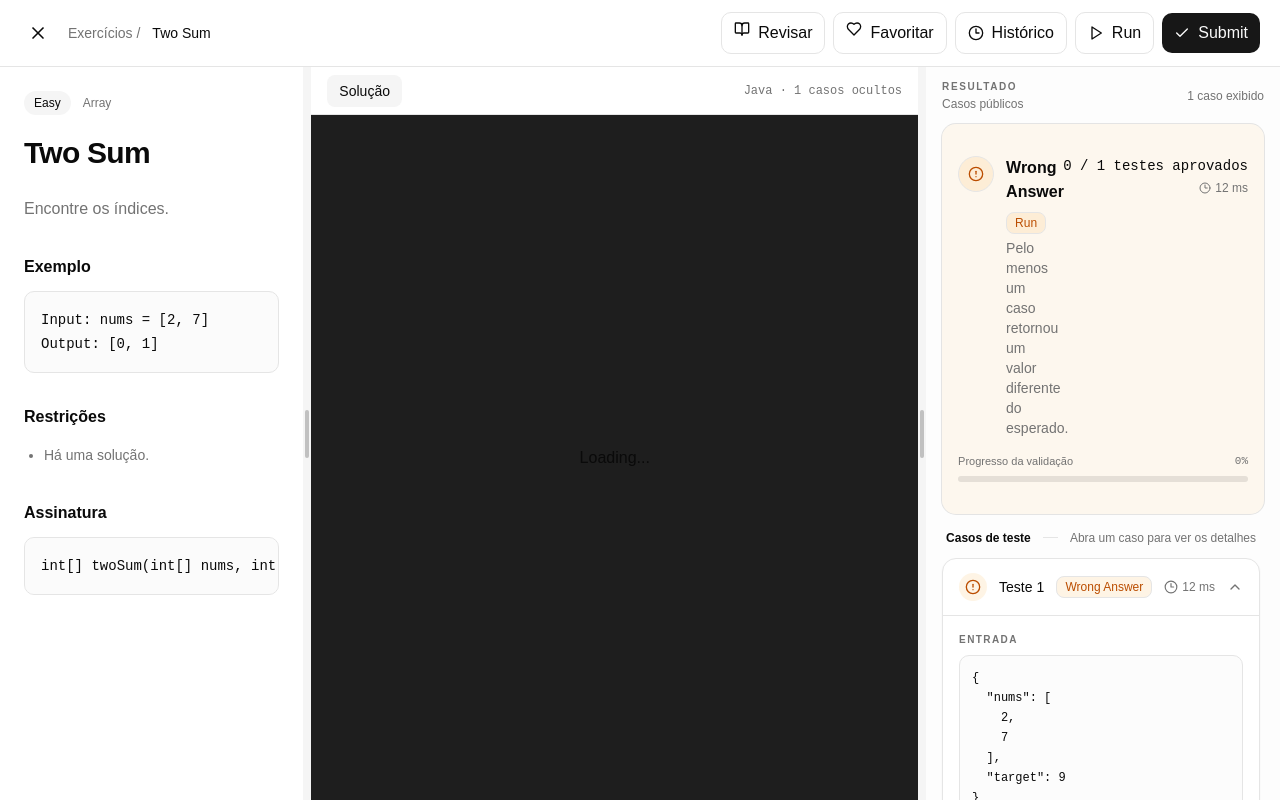
Test: Judge integration in the solver › runs public tests, submits all tests and refreshes the Dashboard while keeping the modal open
Earlier steps of the test are not shown.
Expected: the element named "Resultado da execução" does not have class "hidden", [926, 67, 1279, 799]
Click the button "Submit" at {"x": 1211, "y": 33}, box [1162, 13, 1260, 53]
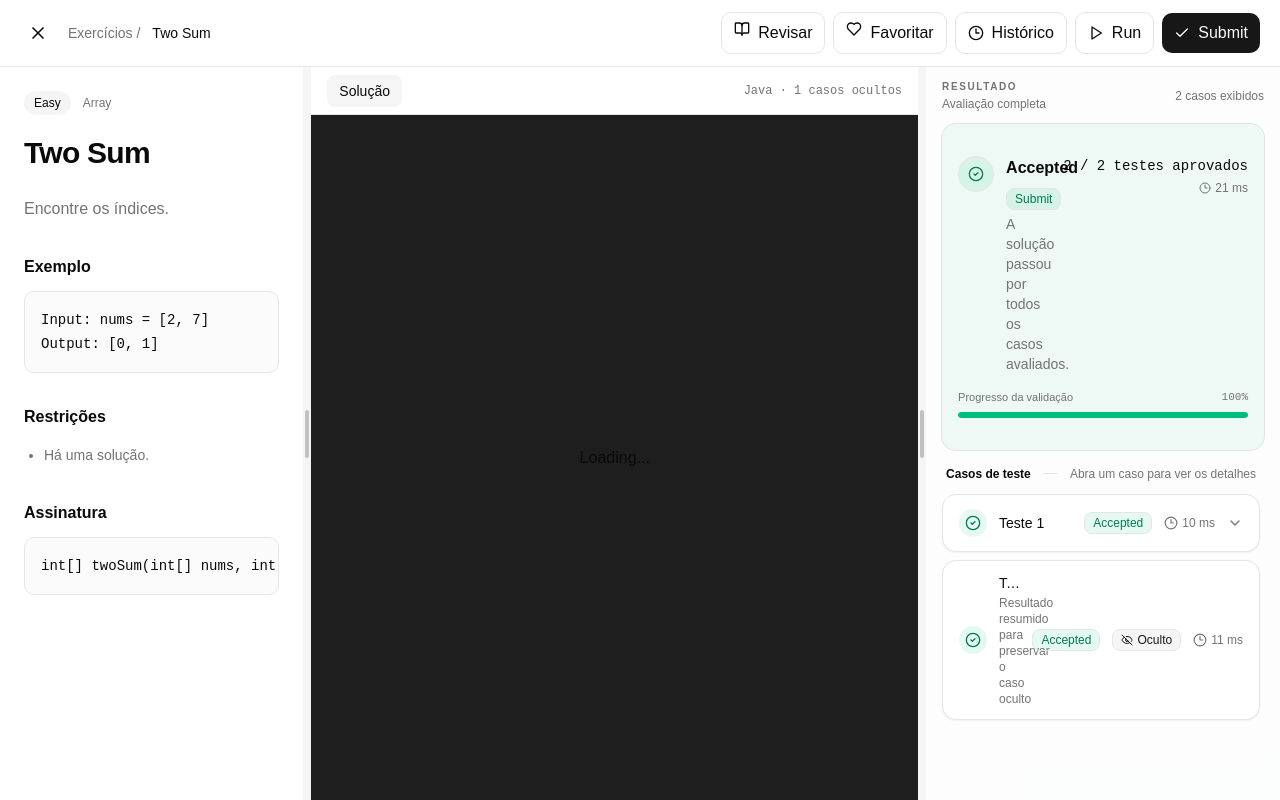
Result: the number of headings "Accepted" is 3 at [1006, 156, 1078, 180]; [1084, 512, 1152, 534]; [1032, 629, 1100, 651]
Result: the text "Teste oculto 2" is shown at [999, 573, 1020, 593]
Click the button named "Fechar exercício" at {"x": 38, "y": 33}, box [20, 15, 56, 51]
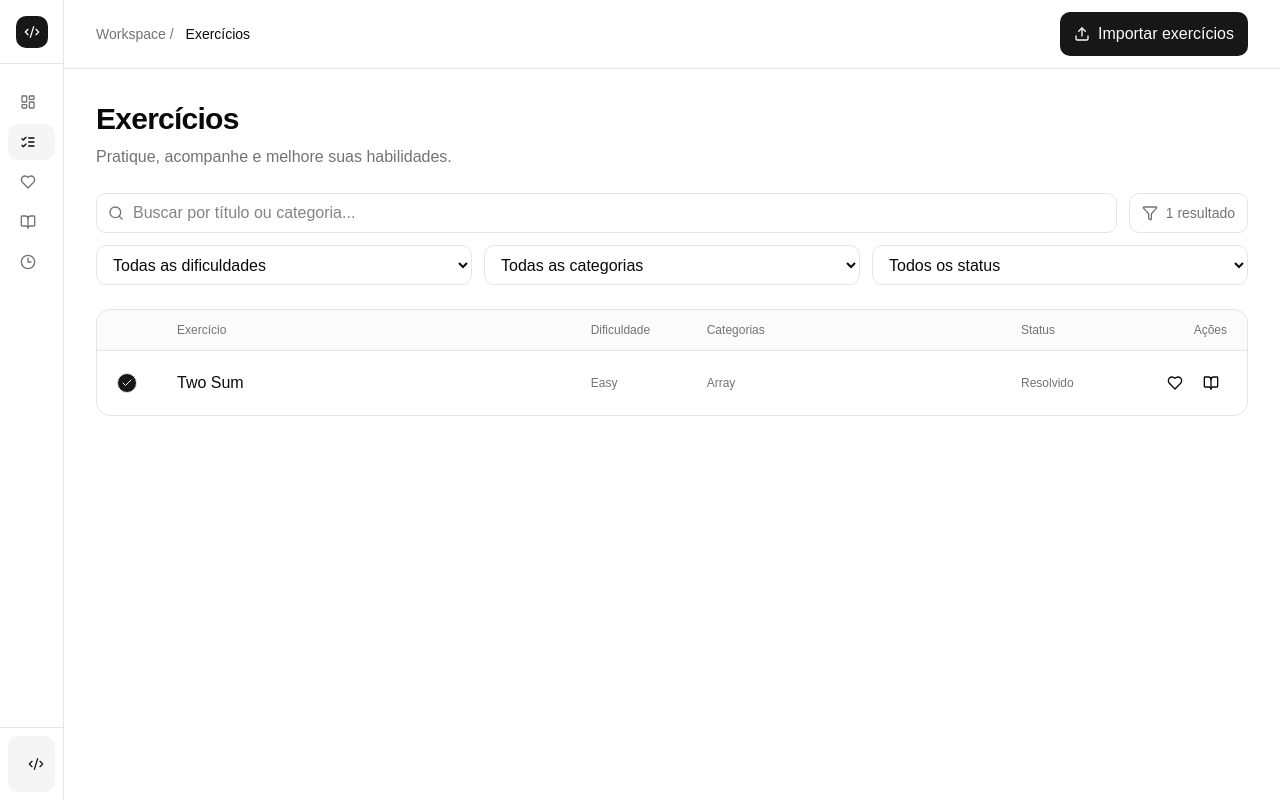
Click the button named "Dashboard" at {"x": 32, "y": 102}, box [8, 84, 55, 120]
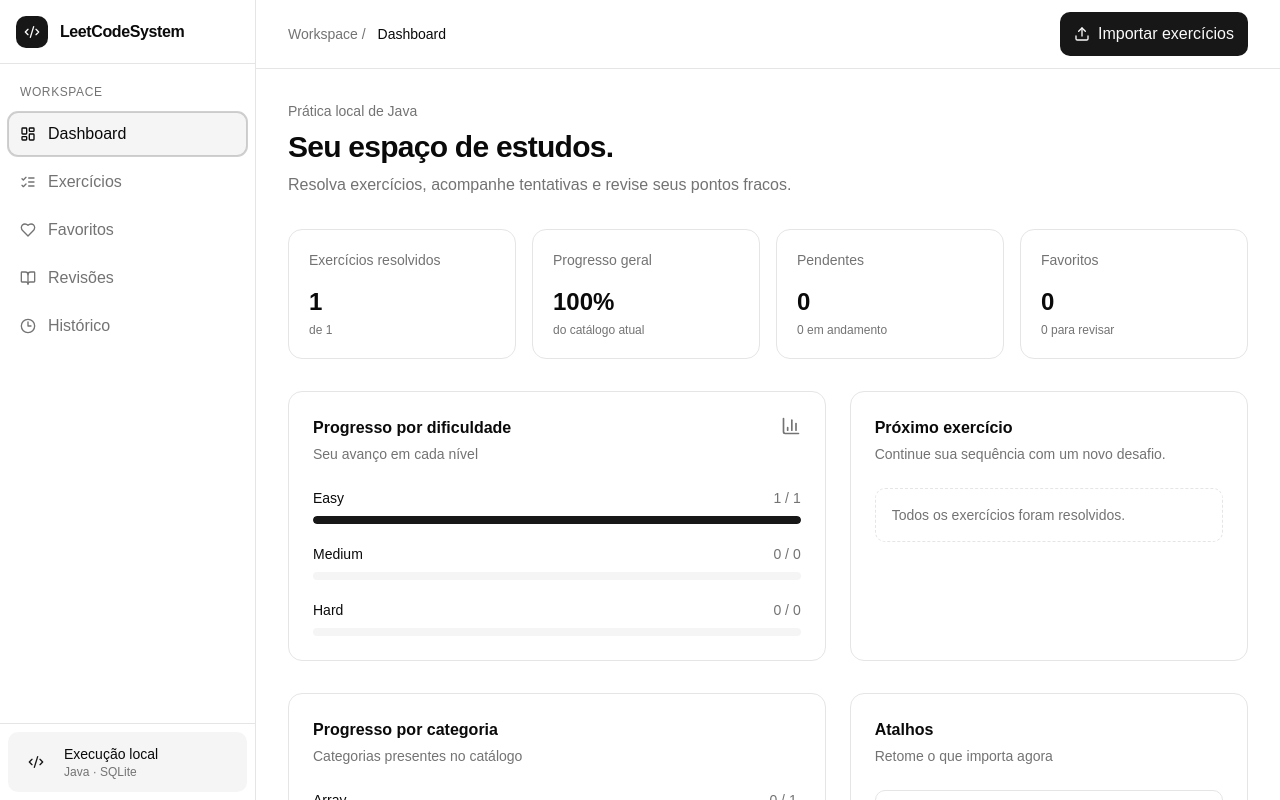
Result: the text "100%" is shown at [553, 288, 614, 315]
